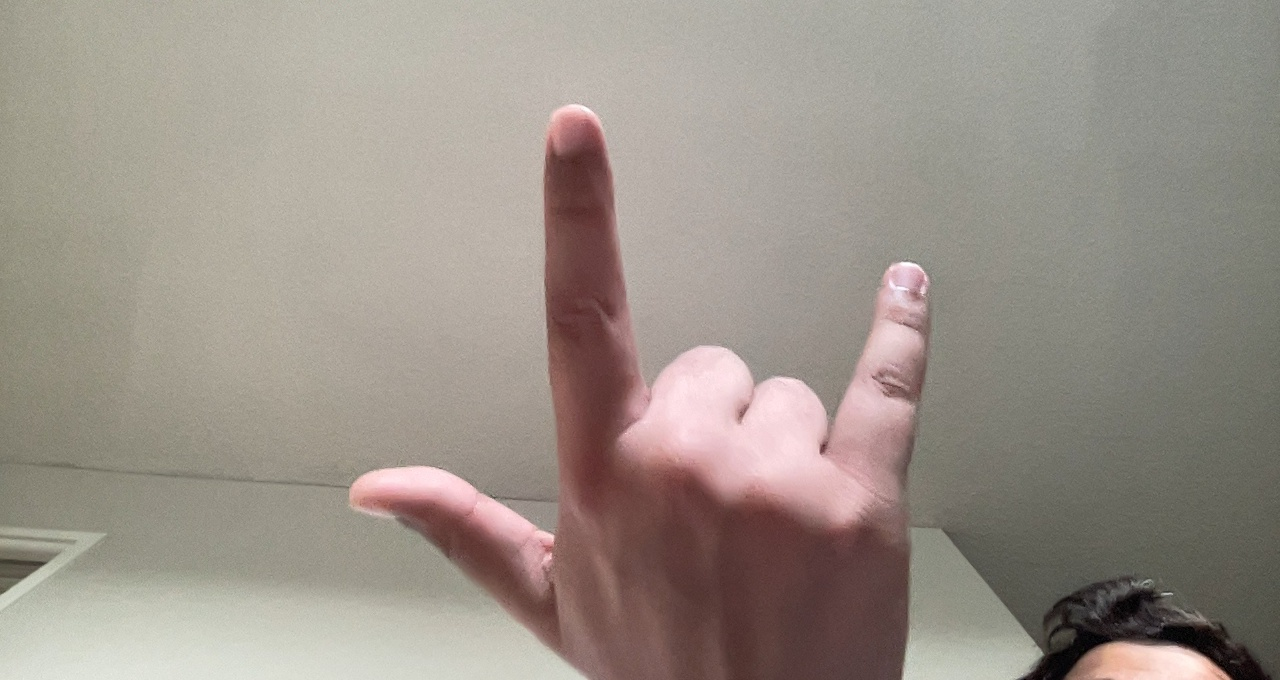rockon sign: (338, 97, 944, 680)
